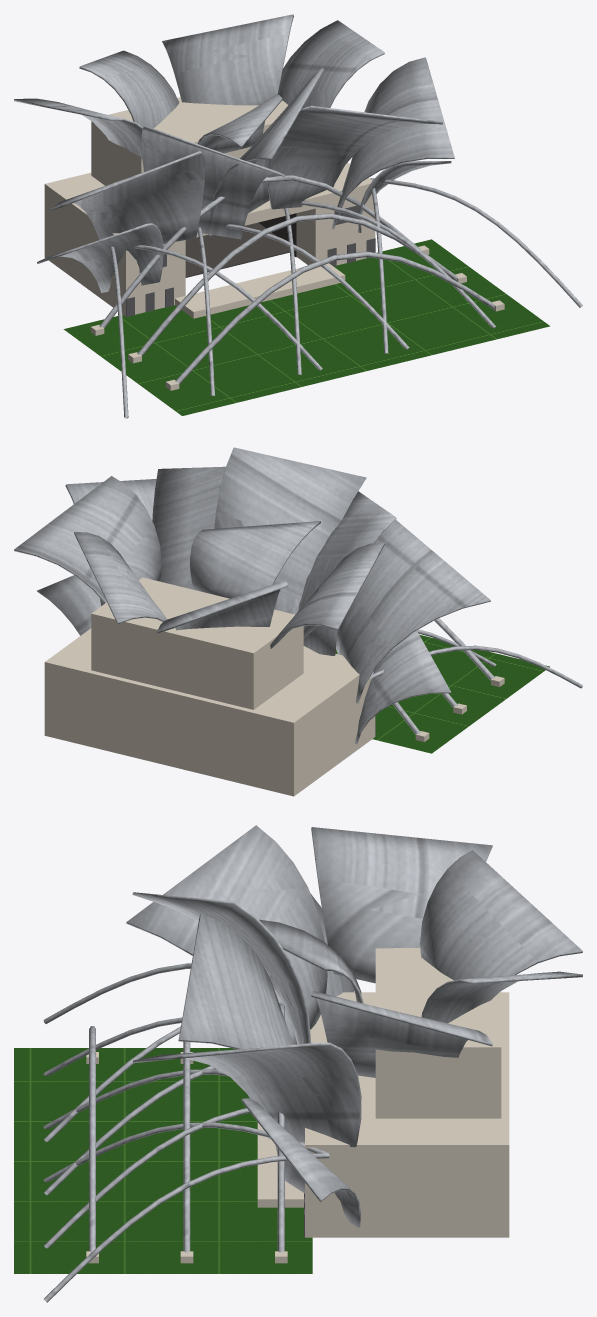
Rendered from pritzker_pavilion_lod1.glb.
3 renders of one model, top to bottom at view 1: azimuth 30°, elevation 25°; view 2: azimuth 150°, elevation 25°; view 3: azimuth 270°, elevation 25°, orthographic. The views are drawn at different scales.
Parts seen in each view (by area): view 1: pritzker_steel, pritzker_lawn, pritzker_stone, wood, dark; view 2: pritzker_steel, pritzker_stone, pritzker_lawn; view 3: pritzker_steel, pritzker_lawn, pritzker_stone.
Part boxes in pixels (x1,y1,x2,y2): pritzker_steel: (14,14,582,418); pritzker_lawn: (63,239,549,415); pritzker_stone: (44,97,504,390); wood: (185,213,296,277); dark: (126,205,375,316); pritzker_steel: (14,447,582,744); pritzker_stone: (44,577,504,796); pritzker_lawn: (335,634,549,753); pritzker_steel: (43,825,582,1302); pritzker_lawn: (14,1048,312,1273); pritzker_stone: (86,947,509,1263).
Bounding box in the file's own units: 84.63 × 40.54 × 72.37.
5 materials, 2 textured.
